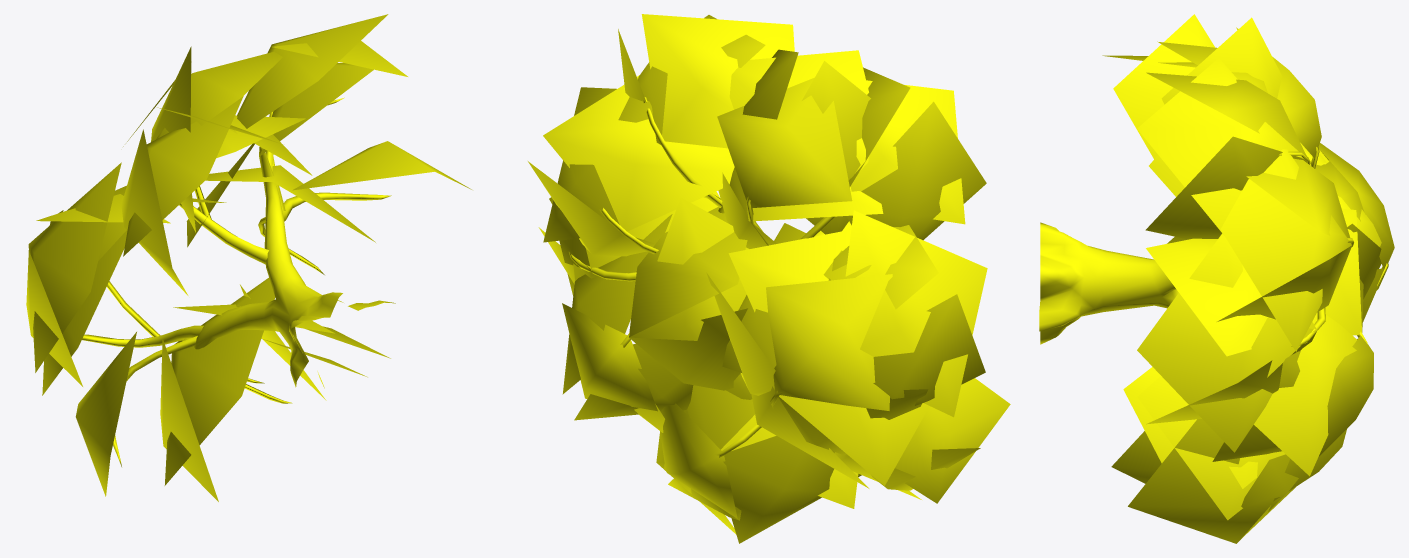
The model's file is willow_tree.glb.
3 renders of one model, left to right at view 1: azimuth 30°, elevation 25°; view 2: azimuth 150°, elevation 25°; view 3: azimuth 270°, elevation 25°, orthographic. The views are drawn at different scales.
Parts seen in each view (by area): view 1: Willow_tree1; view 2: Willow_tree1; view 3: Willow_tree1.
Boxes of the visible parts, x1,y1,x2,y2 form: Willow_tree1: (26, 14, 471, 501); Willow_tree1: (528, 14, 1010, 543); Willow_tree1: (1039, 14, 1394, 543).
Bounding box in the file's own units: 15.79 × 17.59 × 11.42.
Materials: 2 (2 with a texture image).
